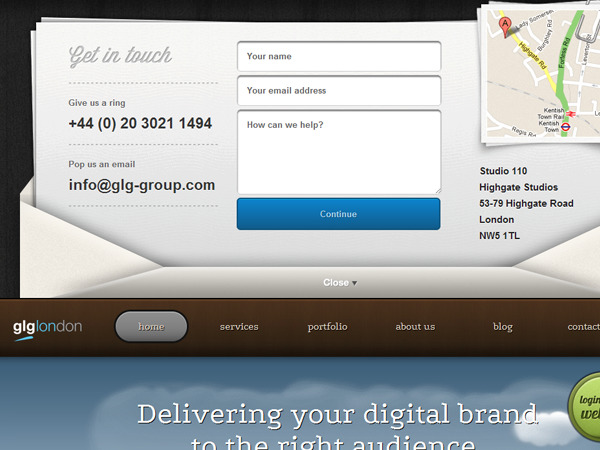_form_: (104, 1, 472, 358)
button: (236, 198, 441, 231), (112, 309, 188, 343)
field: (236, 110, 442, 197), (236, 40, 441, 73), (236, 75, 442, 107)
